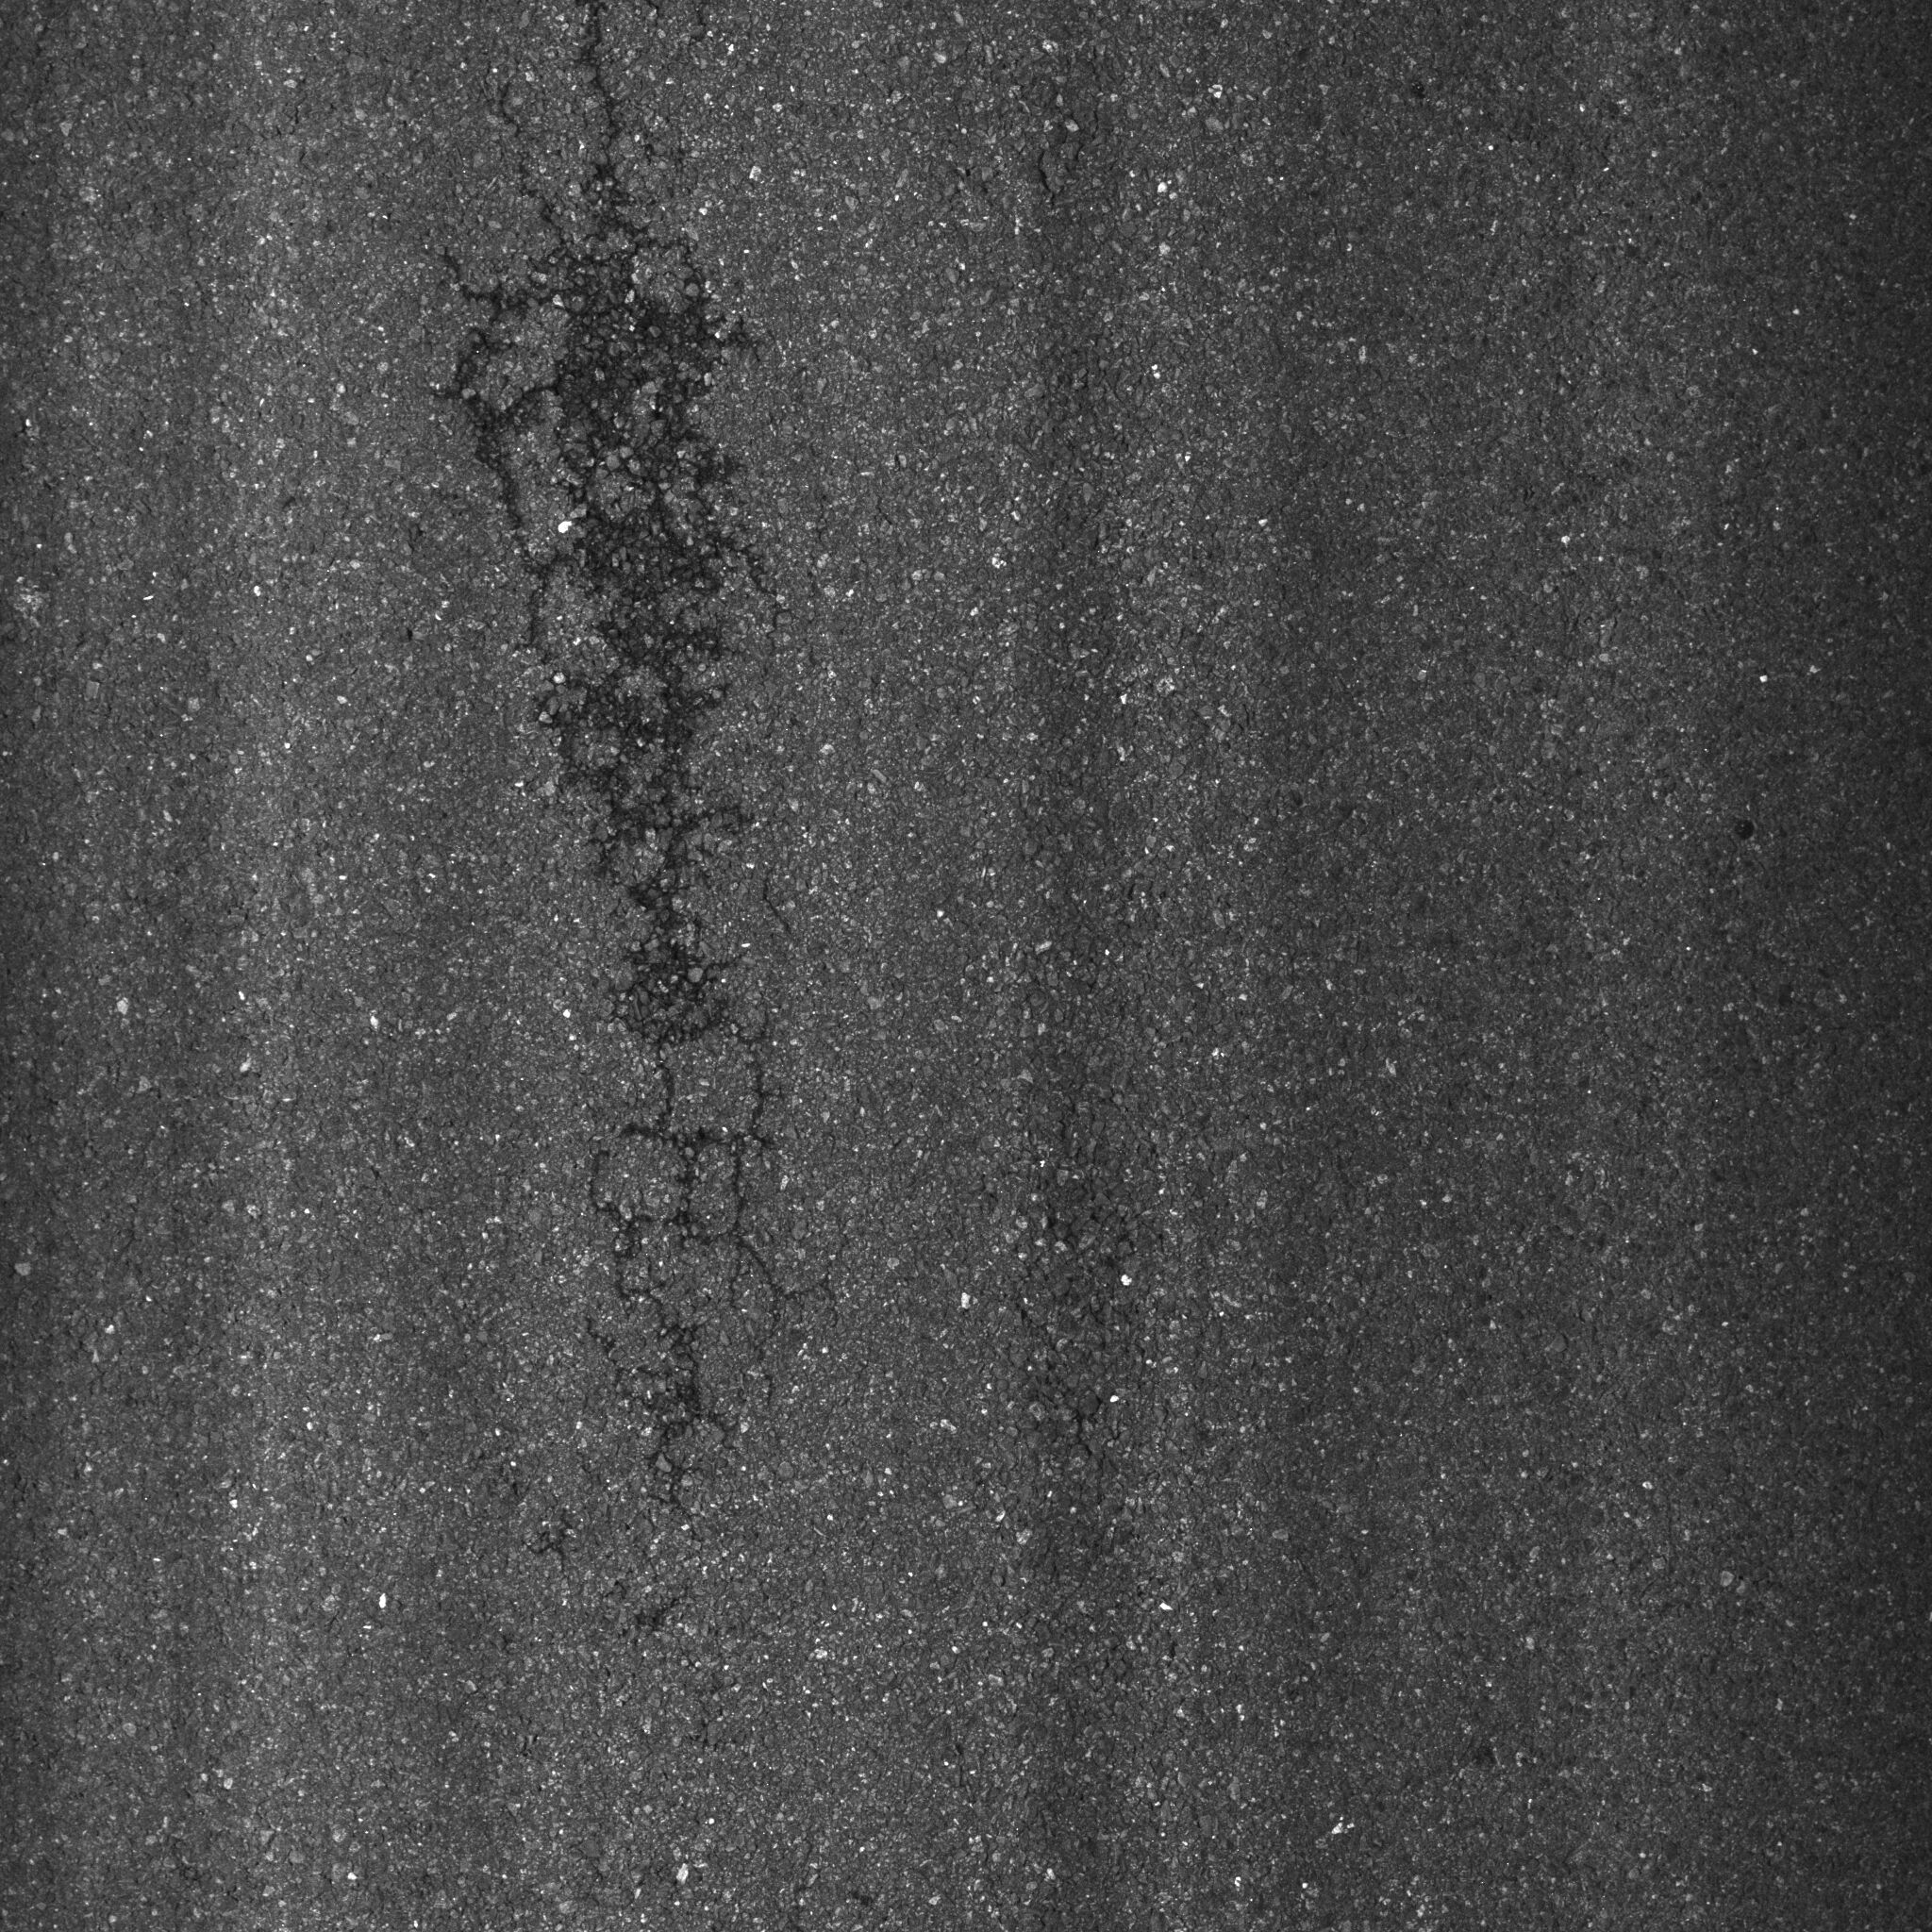alligator: (418, 16, 855, 1550)
